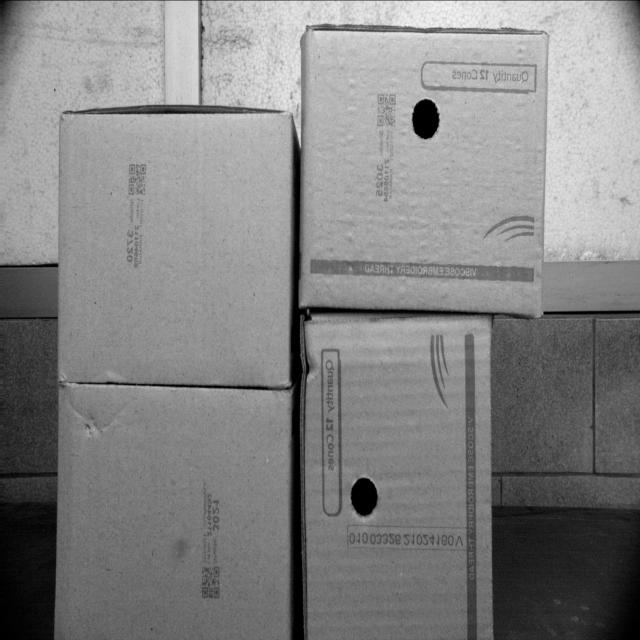cardboxes: (296, 28, 548, 309), (62, 111, 290, 388), (301, 313, 491, 639), (54, 389, 292, 639)
